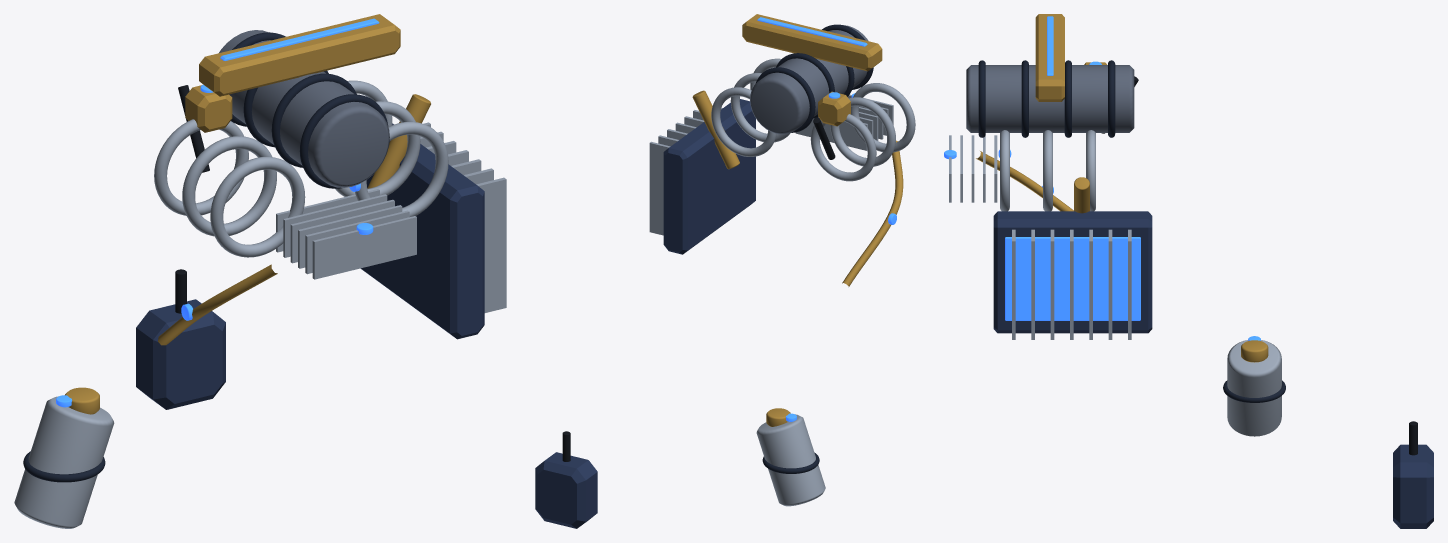
The model's file is tower_lance_rate_s9.glb.
3 renders of one model, left to right at view 1: azimuth 30°, elevation 25°; view 2: azimuth 150°, elevation 25°; view 3: azimuth 270°, elevation 25°, orthographic. The views are drawn at different scales.
Visible parts, largest first — view 1: lance_radiator_frame, lance_capacitor_c, lance_breech_sink, lance_reservoir, lance_bus_bar_heavy, lance_relay_box, lance_radiator_fins, lance_cap_cover_r0, lance_cap_cover_r1, lance_cap_cover_r2, lance_cap_cover_l0, lance_bus_tap (+8 smaller); view 2: lance_radiator_frame, lance_capacitor_c, lance_relay_box, lance_reservoir, lance_bus_bar_heavy, lance_radiator_fins, lance_breech_sink, lance_cap_cover_r2, lance_cap_cover_r1, lance_cap_cover_l2, lance_cap_cover_r0, lance_coolant_line (+6 smaller); view 3: lance_radiator_glow, lance_capacitor_c, lance_radiator_frame, lance_reservoir, lance_radiator_fins, lance_relay_box, lance_bus_bar_heavy, lance_breech_sink, lance_cap_cover_l0, lance_cap_cover_l1, lance_coolant_line, lance_cap_cover_l2 (+4 smaller).
Part boxes in pixels (x1=…): lance_radiator_frame: x1=360, y1=123, x2=484, y2=339; lance_capacitor_c: x1=219, y1=30, x2=389, y2=187; lance_breech_sink: x1=276, y1=189, x2=416, y2=279; lance_reservoir: x1=14, y1=396, x2=114, y2=528; lance_bus_bar_heavy: x1=199, y1=14, x2=400, y2=96; lance_relay_box: x1=136, y1=299, x2=225, y2=409; lance_radiator_fins: x1=420, y1=122, x2=506, y2=312; lance_cap_cover_r0: x1=210, y1=156, x2=305, y2=257; lance_cap_cover_r1: x1=182, y1=136, x2=276, y2=236; lance_cap_cover_r2: x1=154, y1=119, x2=248, y2=215; lance_cap_cover_l0: x1=355, y1=121, x2=448, y2=216; lance_bus_tap: x1=185, y1=85, x2=232, y2=132; lance_radiator_frame: x1=663, y1=99, x2=755, y2=254; lance_capacitor_c: x1=750, y1=25, x2=868, y2=134; lance_relay_box: x1=535, y1=452, x2=597, y2=528; lance_reservoir: x1=756, y1=414, x2=825, y2=506; lance_bus_bar_heavy: x1=742, y1=14, x2=882, y2=71; lance_radiator_fins: x1=649, y1=108, x2=722, y2=235; lance_breech_sink: x1=795, y1=94, x2=893, y2=150; lance_cap_cover_r2: x1=810, y1=114, x2=876, y2=181; lance_cap_cover_r1: x1=830, y1=97, x2=895, y2=166; lance_cap_cover_l2: x1=711, y1=87, x2=776, y2=156; lance_cap_cover_r0: x1=851, y1=83, x2=915, y2=152; lance_coolant_line: x1=842, y1=140, x2=903, y2=286; lance_radiator_glow: x1=1005, y1=237, x2=1140, y2=320; lance_capacitor_c: x1=966, y1=65, x2=1134, y2=132; lance_radiator_frame: x1=993, y1=211, x2=1152, y2=333; lance_reservoir: x1=1227, y1=340, x2=1281, y2=436; lance_radiator_fins: x1=1012, y1=229, x2=1131, y2=339; lance_relay_box: x1=1393, y1=444, x2=1433, y2=528; lance_bus_bar_heavy: x1=1035, y1=14, x2=1064, y2=101; lance_breech_sink: x1=949, y1=135, x2=997, y2=202; lance_cap_cover_l0: x1=1000, y1=130, x2=1009, y2=211; lance_cap_cover_l1: x1=1043, y1=130, x2=1052, y2=211; lance_coolant_line: x1=976, y1=151, x2=1073, y2=211; lance_cap_cover_l2: x1=1086, y1=130, x2=1095, y2=211.
Size of the model in its own units: 1.29 by 2.1 by 2.16.
